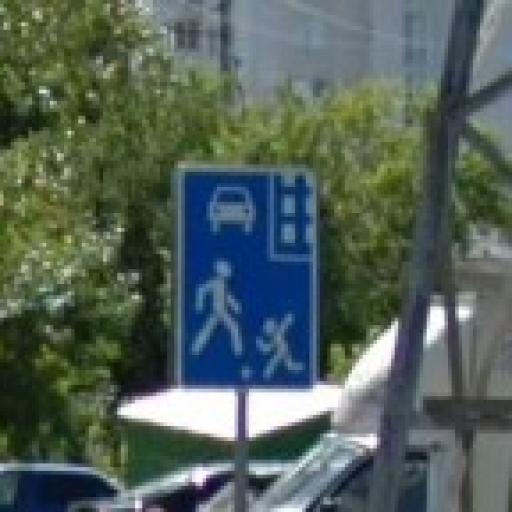traffic_sign: (172, 162, 321, 393)
